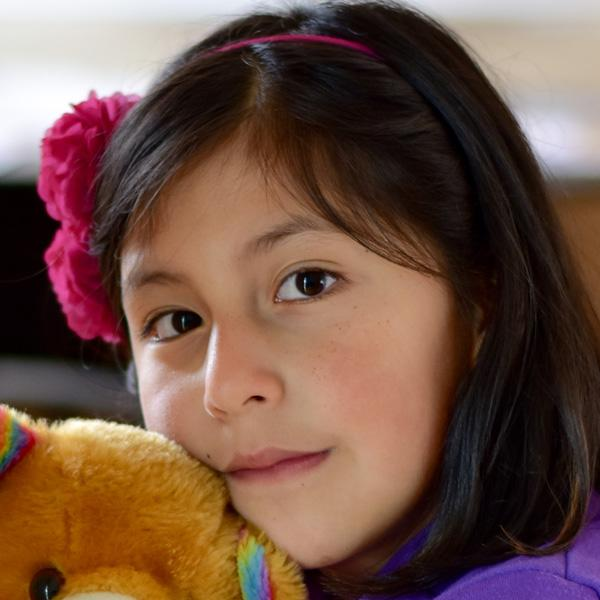Eyes: (266, 254, 355, 314), (135, 299, 210, 354)
